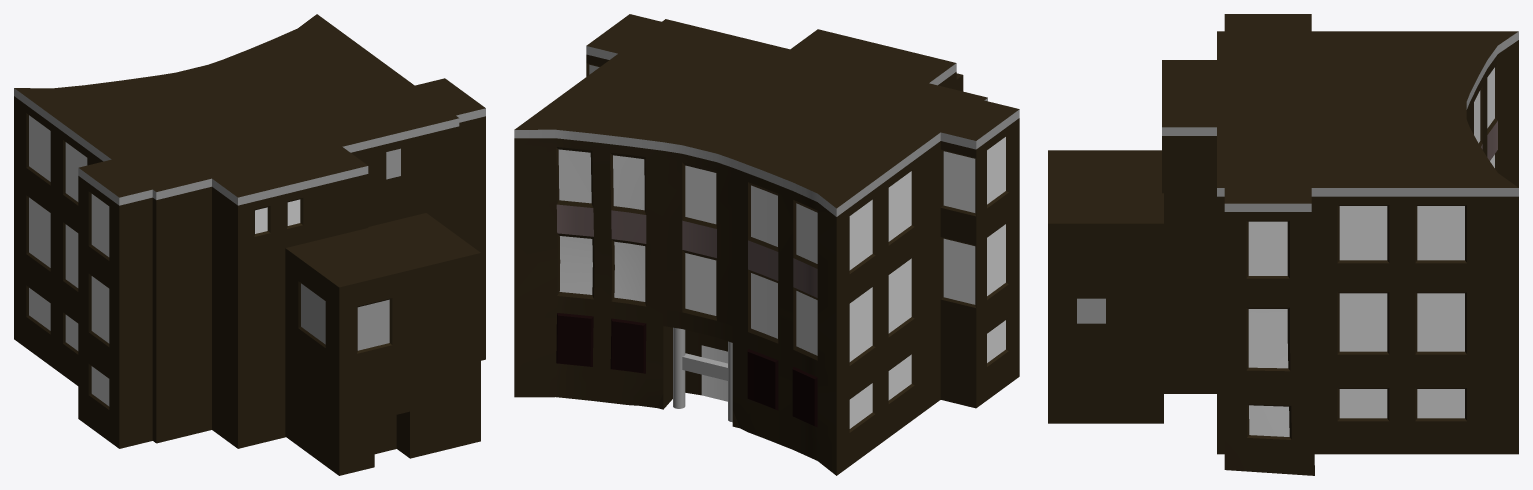
The model's file is AlbertBrooks.fbx.
The picture shows the model from 3 angles, left to right: view 1: azimuth 30°, elevation 25°; view 2: azimuth 150°, elevation 25°; view 3: azimuth 270°, elevation 25°; orthographic projection. The views are drawn at different scales.
Visible parts, largest first — view 1: pCube1, pCube2; view 2: pCube1, pasted__pCylinder1, pCube3; view 3: pCube1, pCube2.
Boxes of the visible parts, bbox=[...] form: pCube1: bbox=[14, 14, 485, 448]; pCube2: bbox=[285, 213, 480, 475]; pCube1: bbox=[514, 14, 1019, 475]; pasted__pCylinder1: bbox=[673, 327, 685, 408]; pCube3: bbox=[682, 353, 727, 380]; pCube1: bbox=[1162, 14, 1518, 475]; pCube2: bbox=[1048, 150, 1163, 423].
Bounding box in the file's own units: 208 × 138 × 217.
